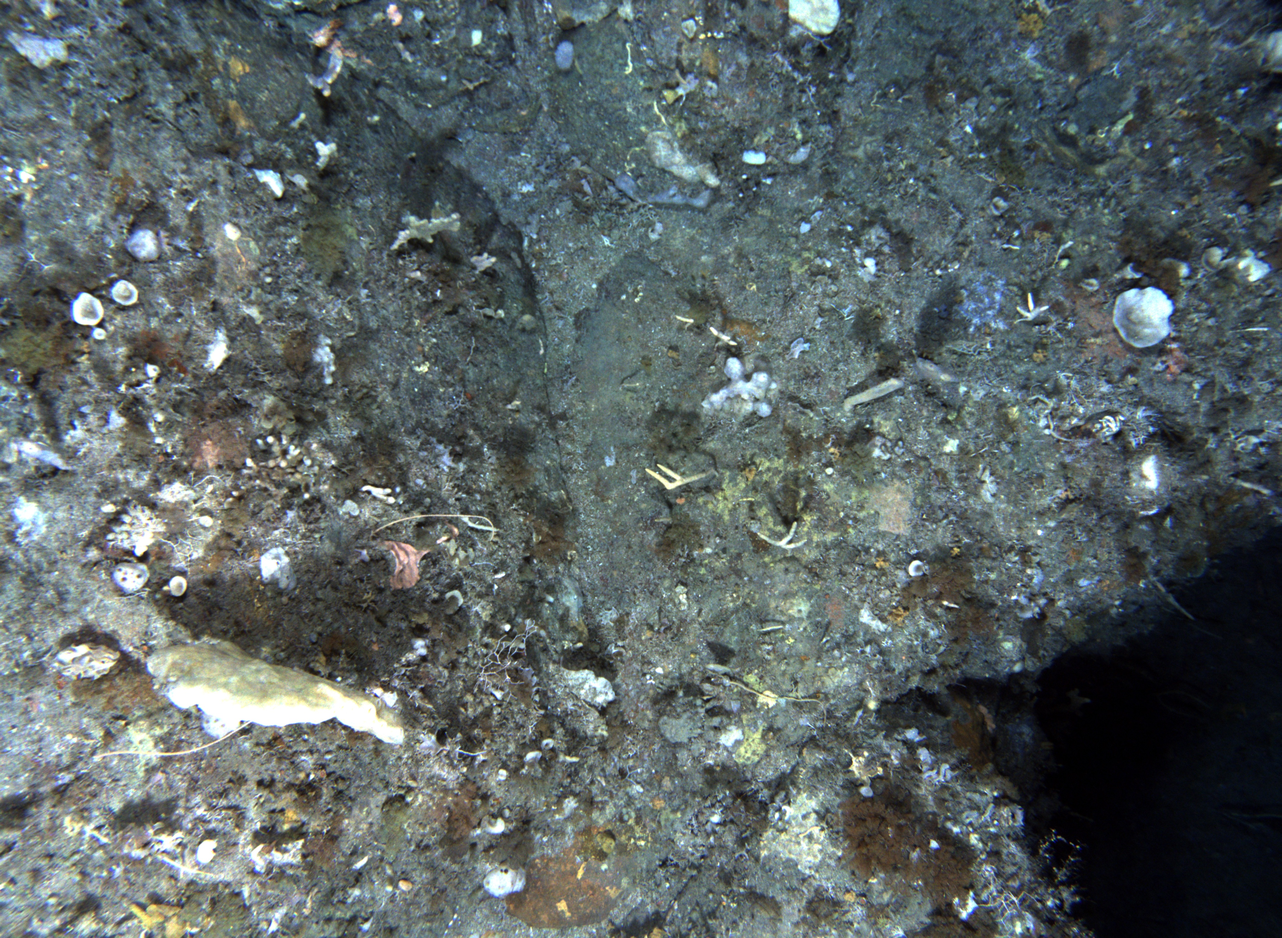Brachionichthyidae: (1072, 414, 1115, 440)
